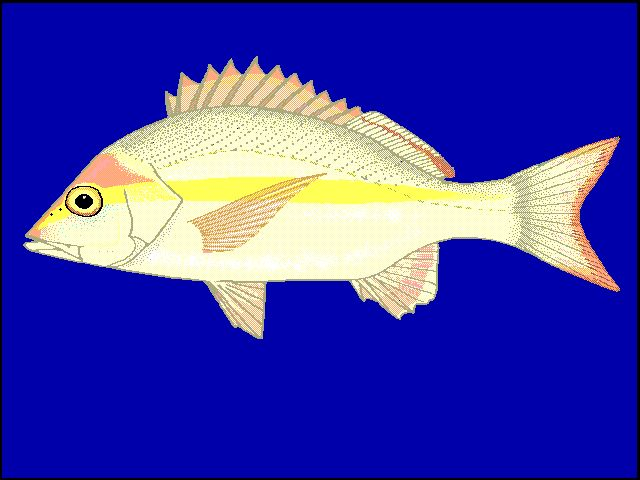fish: (21, 56, 622, 339)
